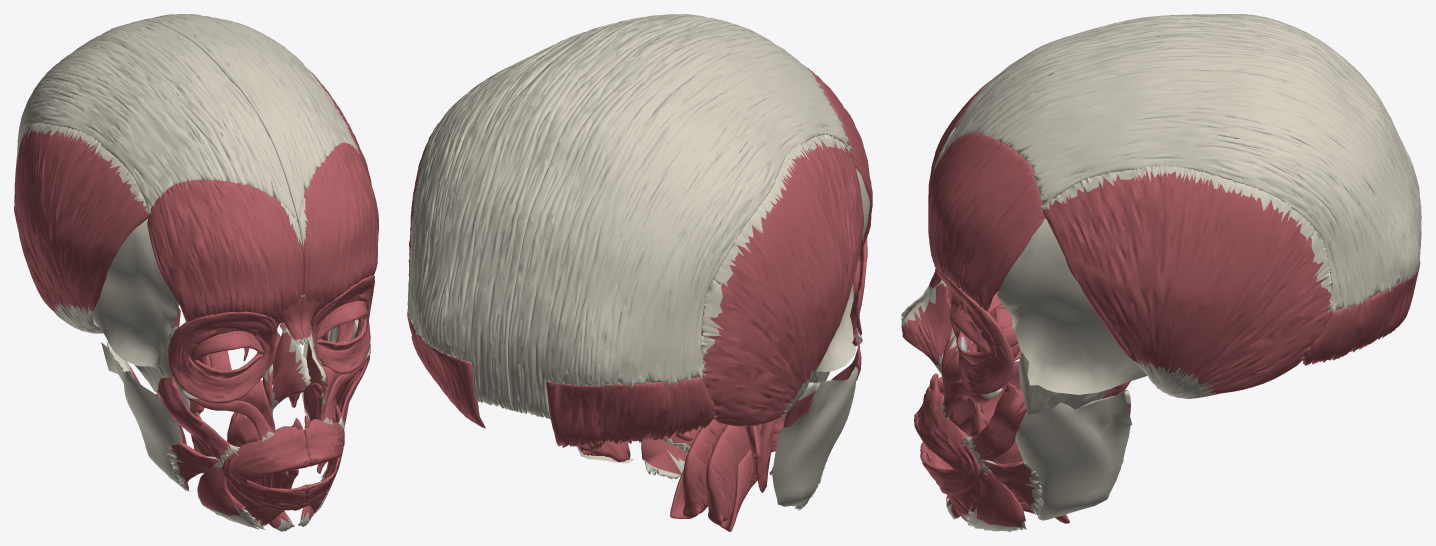
The model's file is detail-muscular-head.glb.
The picture shows the model from 3 angles, left to right: view 1: azimuth 30°, elevation 25°; view 2: azimuth 150°, elevation 25°; view 3: azimuth 270°, elevation 25°; orthographic projection. The views are drawn at different scales.
Parts seen in each view (by area): view 1: za-1ef48e94649f870a, za-33f95c74522852aa, za-3b6e1d04764c4866, za-6758c46ff35da57d, za-f3dba599bfa483ec, za-6a392e55504792a8, za-29b7f43f8aa7be7d, za-6911b87e4adcad19, za-b70520c47328daec, za-bf646586600ac05b, za-e5566e0837859750, za-5a121b84ee031bd8 (+16 smaller); view 2: za-1ef48e94649f870a, za-6758c46ff35da57d, za-33f95c74522852aa, za-04ee24e8ee7c4c86, za-b70520c47328daec, za-1520fcaa8dde5119, za-abc74f6a1f417828, za-58a225262e4d7532, za-6a392e55504792a8, za-3b6e1d04764c4866, za-1a3d4fe5b0423b37, za-68c1bc357201e564 (+3 smaller); view 3: za-6758c46ff35da57d, za-49aa2bae71603323, za-f3dba599bfa483ec, za-60a91687f8a78e4f, za-380d7215225a5c05, za-1ef48e94649f870a, za-abc74f6a1f417828, za-e5566e0837859750, za-bf646586600ac05b, za-5c6186fd412fd8a3, za-b4b7394d987c0a57, za-1a3d4fe5b0423b37 (+7 smaller).
Part boxes in pixels (x1,y1,x2,y2): za-1ef48e94649f870a: (14, 20, 297, 221); za-33f95c74522852aa: (15, 122, 148, 333); za-3b6e1d04764c4866: (147, 179, 303, 324); za-6758c46ff35da57d: (139, 14, 359, 221); za-f3dba599bfa483ec: (297, 142, 378, 315); za-6a392e55504792a8: (92, 219, 178, 369); za-29b7f43f8aa7be7d: (167, 311, 277, 403); za-6911b87e4adcad19: (222, 426, 310, 510); za-b70520c47328daec: (101, 342, 190, 491); za-bf646586600ac05b: (310, 275, 374, 373); za-e5566e0837859750: (297, 419, 344, 510); za-5a121b84ee031bd8: (157, 376, 239, 465); za-1ef48e94649f870a: (508, 19, 852, 419); za-6758c46ff35da57d: (407, 14, 717, 410); za-33f95c74522852aa: (701, 134, 863, 426); za-04ee24e8ee7c4c86: (546, 376, 714, 447); za-b70520c47328daec: (772, 366, 858, 506); za-1520fcaa8dde5119: (706, 424, 757, 525); za-abc74f6a1f417828: (407, 309, 485, 428); za-58a225262e4d7532: (682, 419, 726, 517); za-6a392e55504792a8: (816, 168, 870, 371); za-3b6e1d04764c4866: (806, 67, 872, 245); za-1a3d4fe5b0423b37: (641, 438, 686, 478); za-68c1bc357201e564: (744, 419, 776, 492); za-6758c46ff35da57d: (944, 33, 1421, 313); za-49aa2bae71603323: (1043, 165, 1332, 398); za-f3dba599bfa483ec: (928, 132, 1045, 311); za-60a91687f8a78e4f: (997, 218, 1147, 394); za-380d7215225a5c05: (1015, 392, 1132, 520); za-1ef48e94649f870a: (944, 14, 1421, 221); za-abc74f6a1f417828: (1302, 261, 1420, 365); za-e5566e0837859750: (914, 388, 980, 494); za-bf646586600ac05b: (935, 269, 1014, 395); za-5c6186fd412fd8a3: (901, 280, 952, 375); za-b4b7394d987c0a57: (962, 382, 1026, 467); za-1a3d4fe5b0423b37: (966, 467, 1026, 531).
Bounding box in the file's own units: 0.1608 × 0.2096 × 0.2053.
